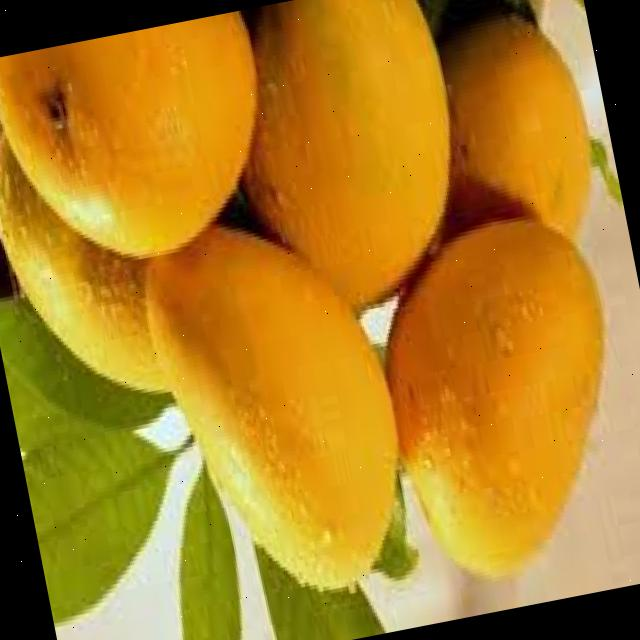mango: (120, 221, 398, 584)
